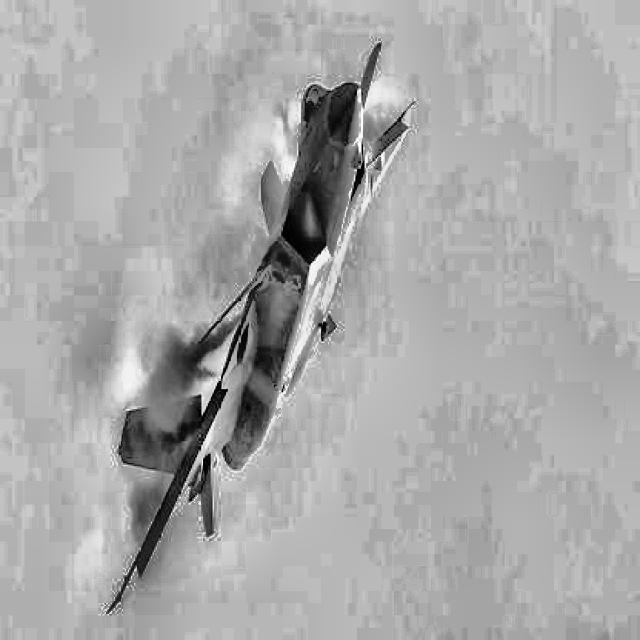J20: (107, 41, 416, 614)
